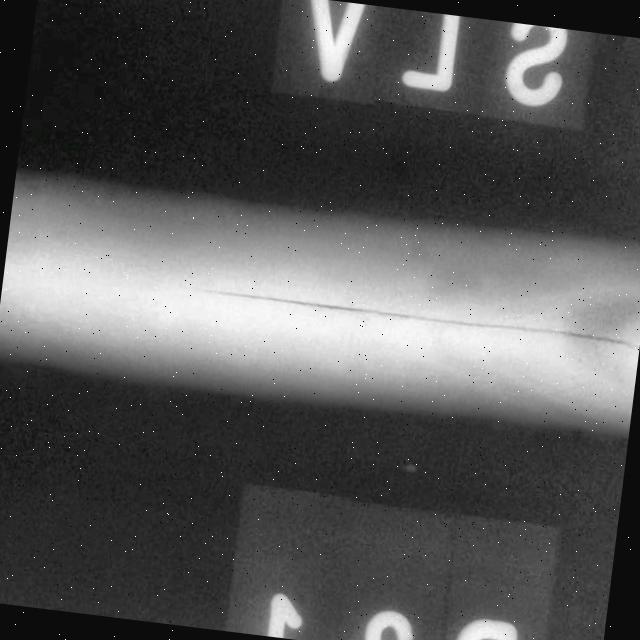LoP-LoF: (139, 253, 640, 368)
